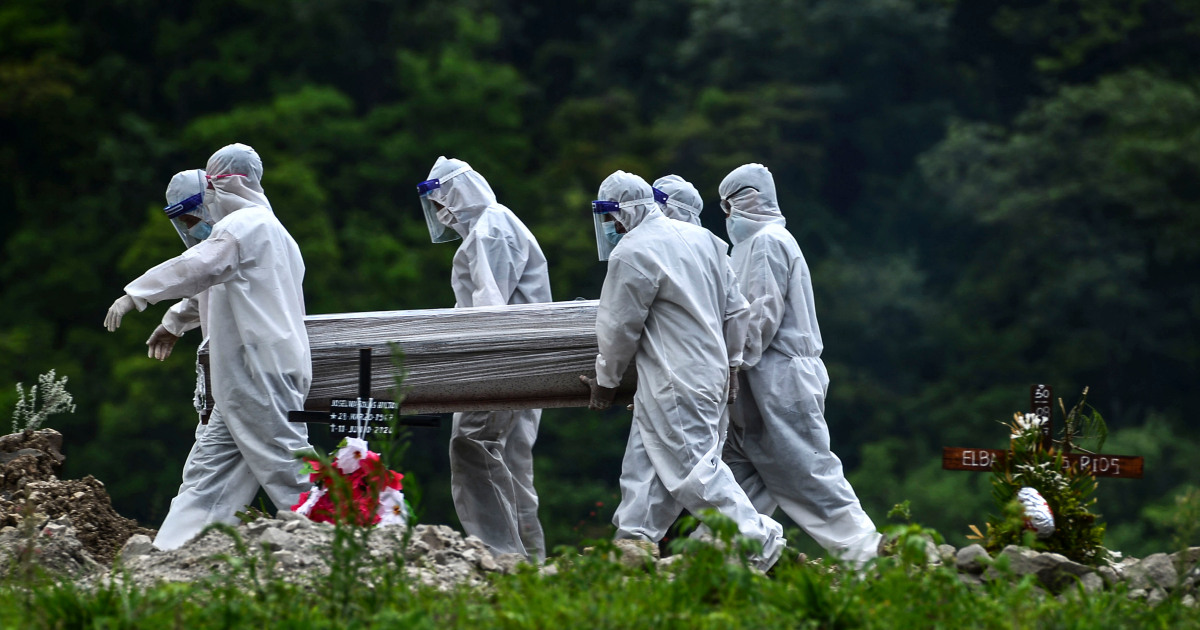Coverall: (598, 226, 729, 556), (200, 150, 308, 516), (732, 223, 844, 562), (430, 153, 559, 310)
Gloves: (146, 314, 189, 362), (101, 287, 139, 335)
